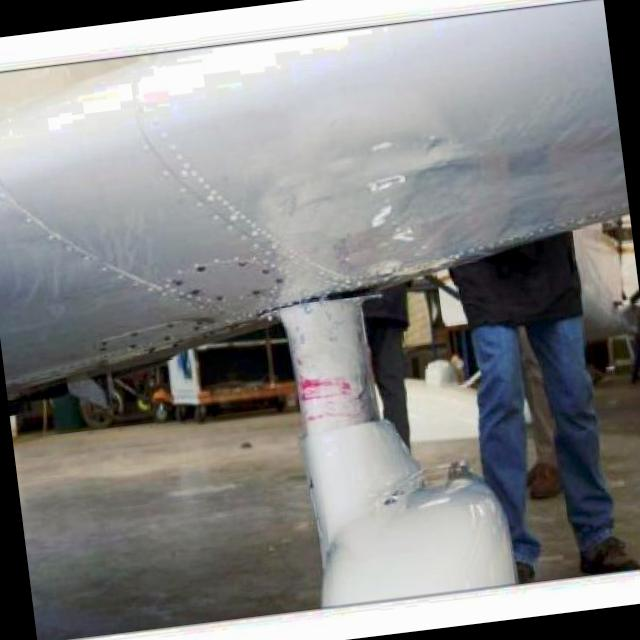dent: (373, 161, 419, 203)
